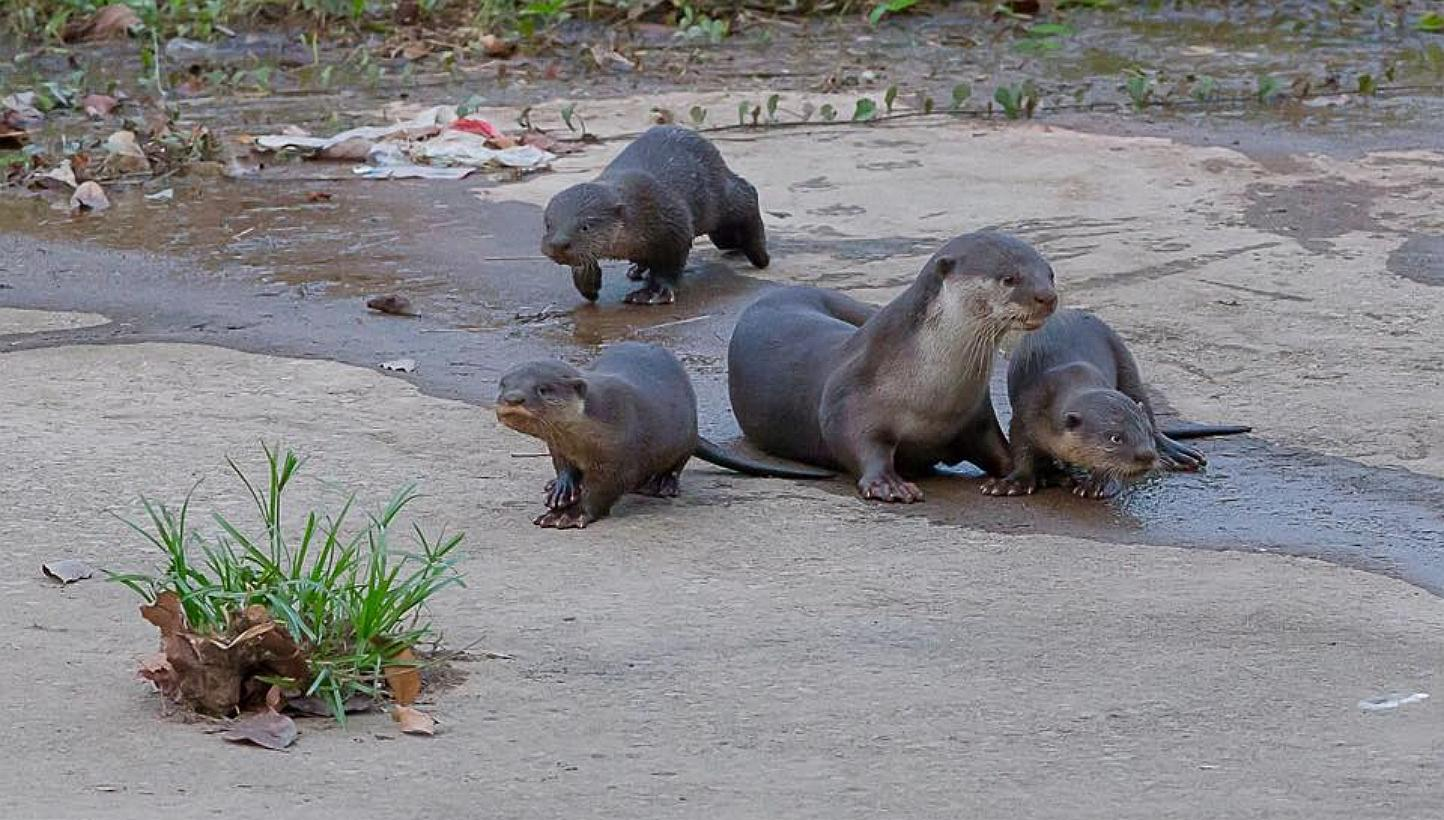otter: (702, 188, 1056, 524), (484, 321, 846, 542), (515, 108, 797, 316)
